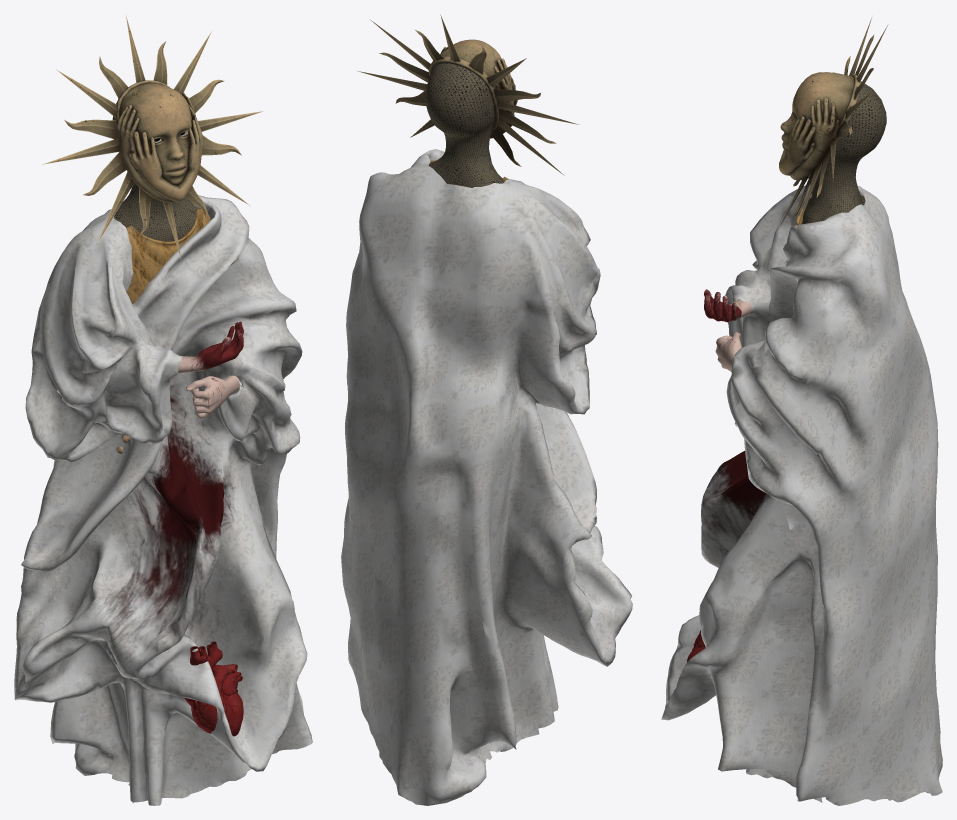
The model's file is sol.glb.
The picture shows the model from 3 angles, left to right: view 1: azimuth 30°, elevation 25°; view 2: azimuth 150°, elevation 25°; view 3: azimuth 270°, elevation 25°; orthographic projection.
Visible parts, largest first — view 1: sol_robe, sol_gold, sol_Material_001, sol_wire_224086086, sol_armor; view 2: sol_robe, sol_gold; view 3: sol_robe, sol_gold, sol_Material_001.
Boxes of the visible parts, x1,y1,x2,y2 form: sol_robe: (14, 195, 312, 805); sol_gold: (42, 15, 263, 259); sol_Material_001: (177, 321, 243, 418); sol_wire_224086086: (185, 641, 243, 736); sol_armor: (126, 209, 210, 304); sol_robe: (341, 149, 632, 805); sol_gold: (357, 15, 579, 187); sol_robe: (661, 185, 942, 805); sol_gold: (778, 17, 888, 236); sol_Material_001: (704, 289, 751, 371).
Size of the model in its own units: 0.6791 by 1.77 by 0.5872.
Materials: 8 (6 with a texture image).
